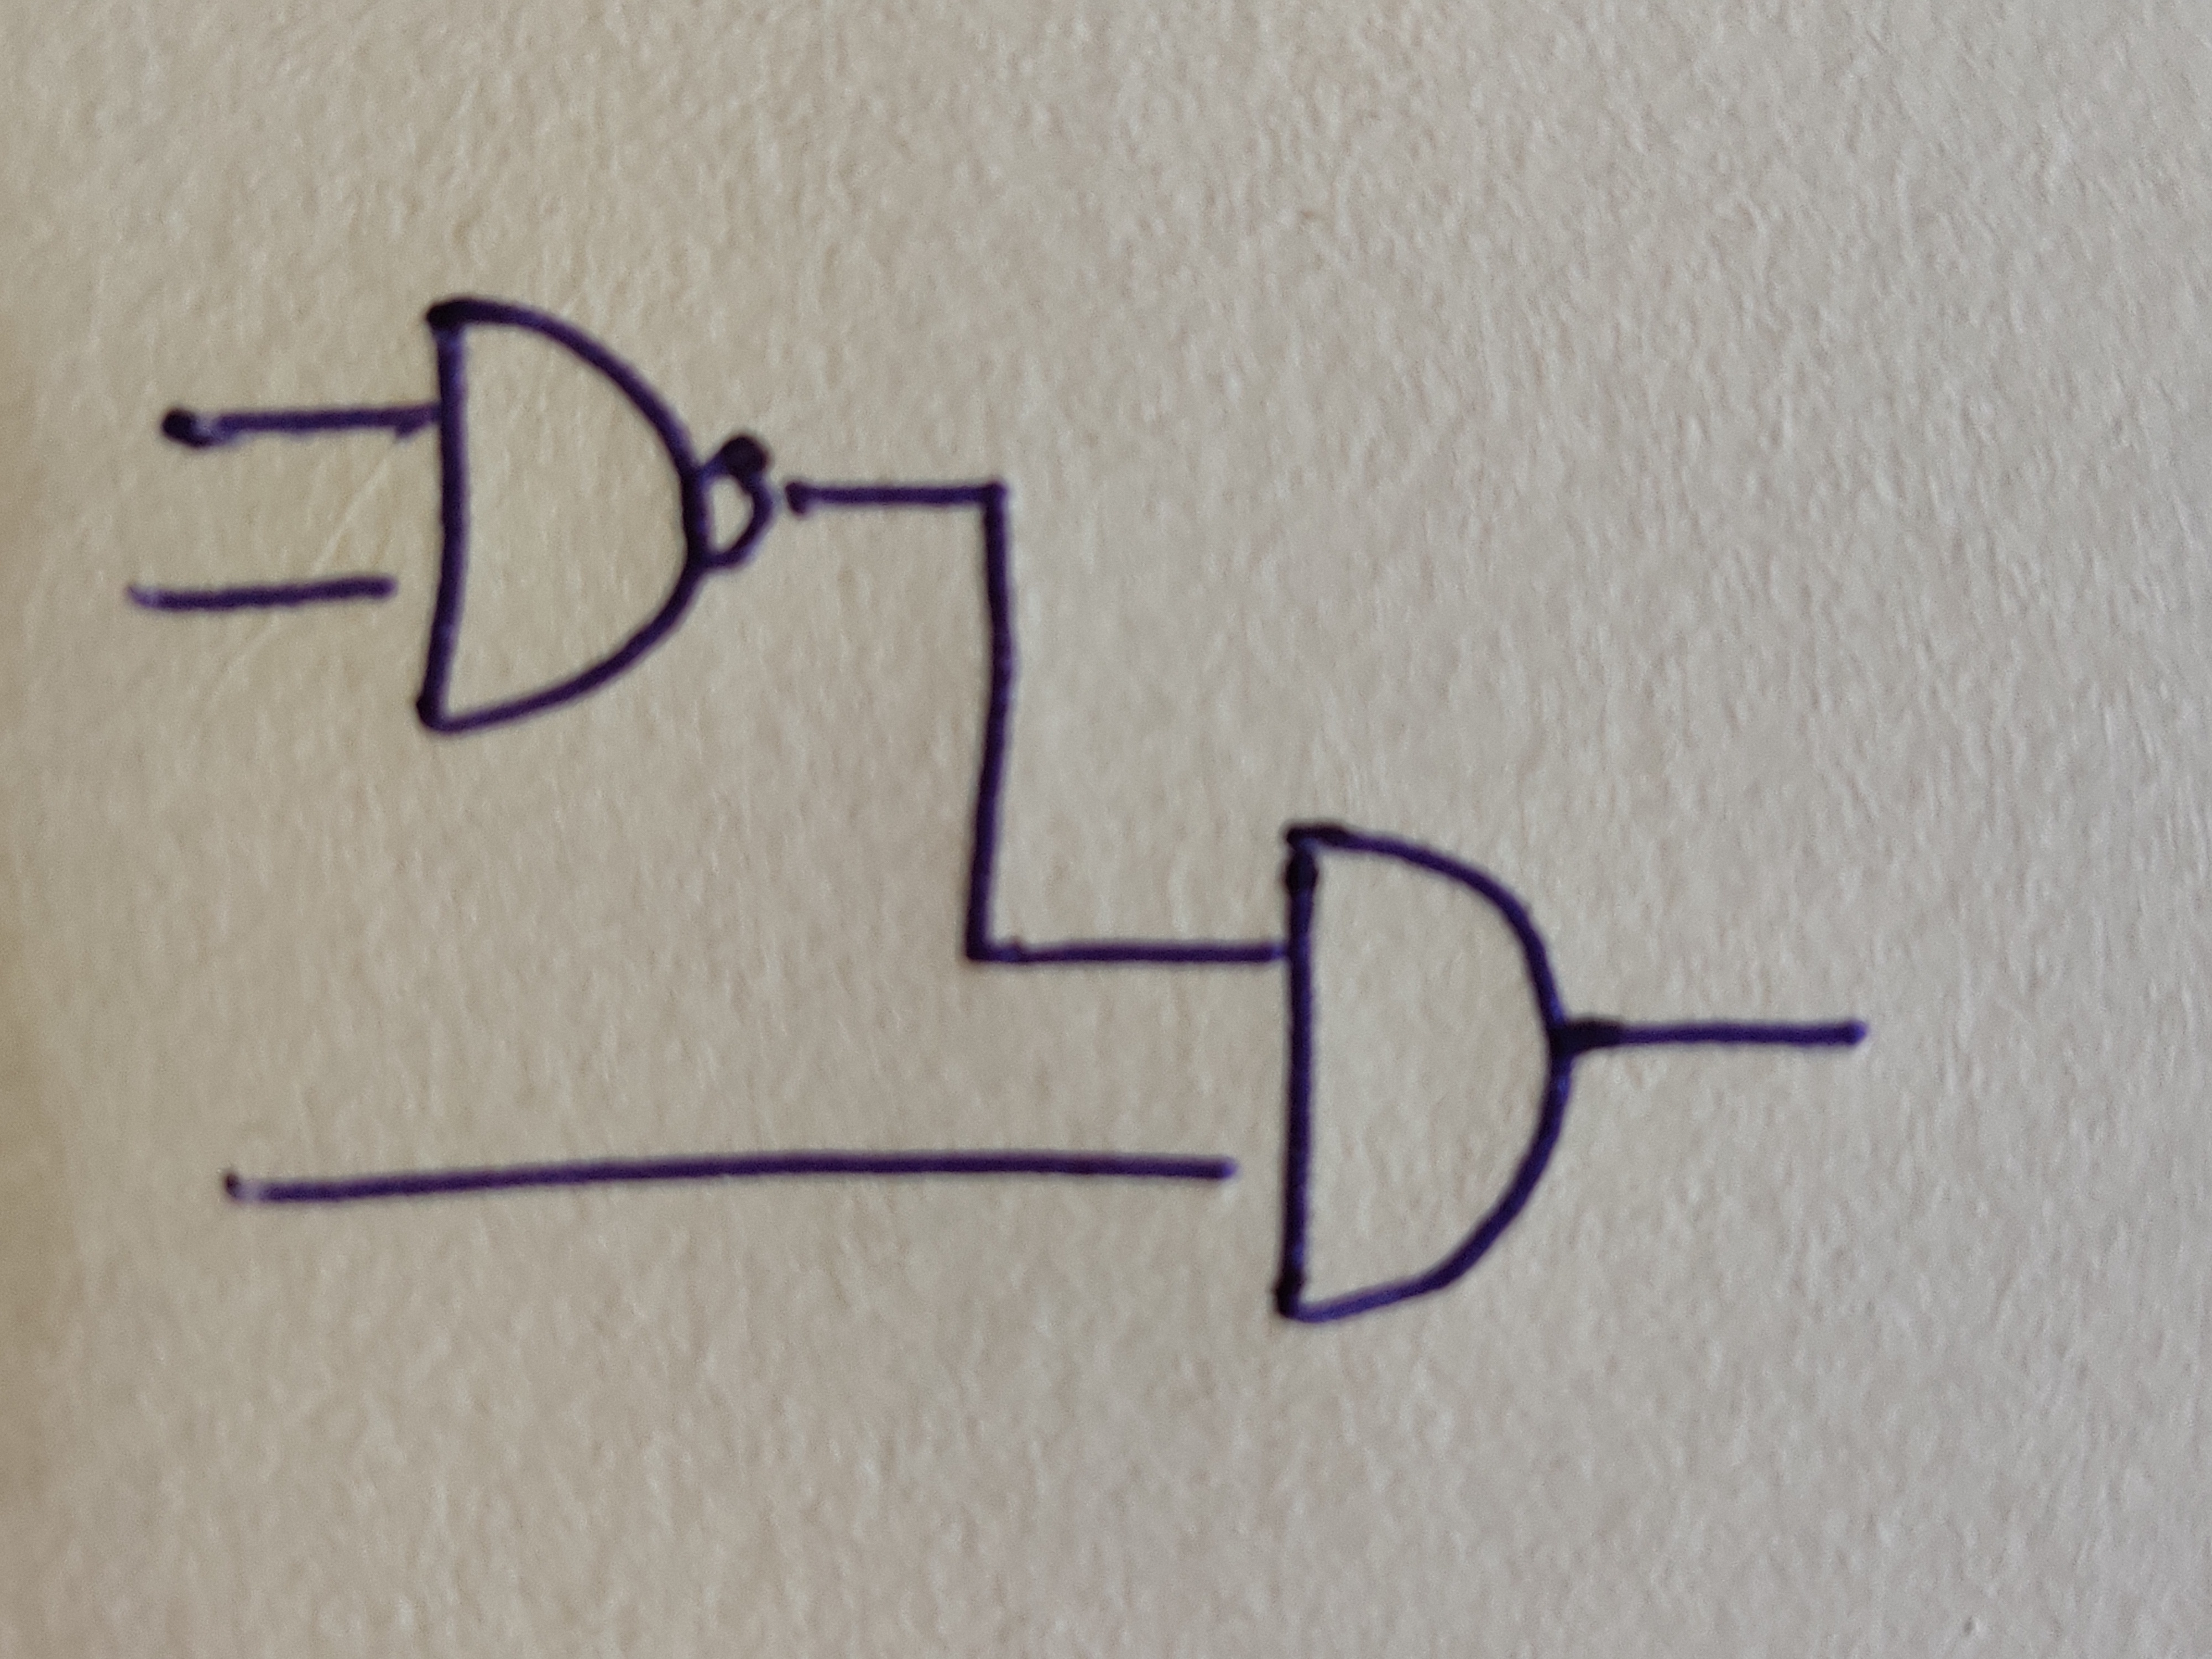and: (1273, 823, 1575, 1326), (416, 298, 707, 734)
not: (697, 434, 779, 570)
